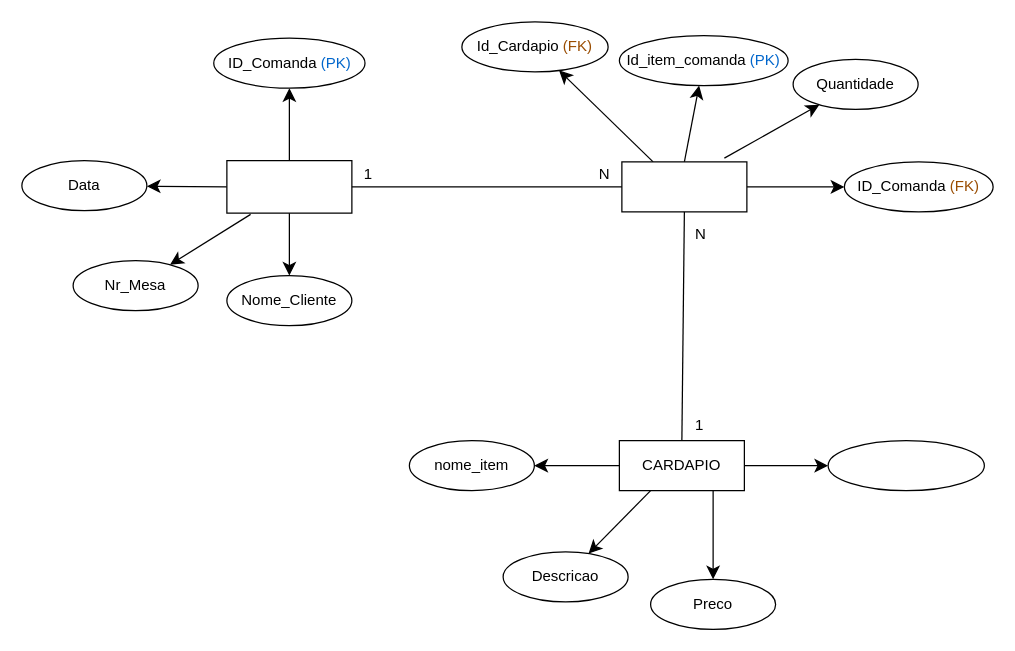
Some shapes in this 1015 by 651 pixel diagram are drawn without their labels. The centre of each missing label's shape, as x and y in pixels:
"COMANDA" belongs at [289,186].
"Id_Cardapio (PK)" belongs at [905,465].
"Item_Comanda" belongs at [684,186].
